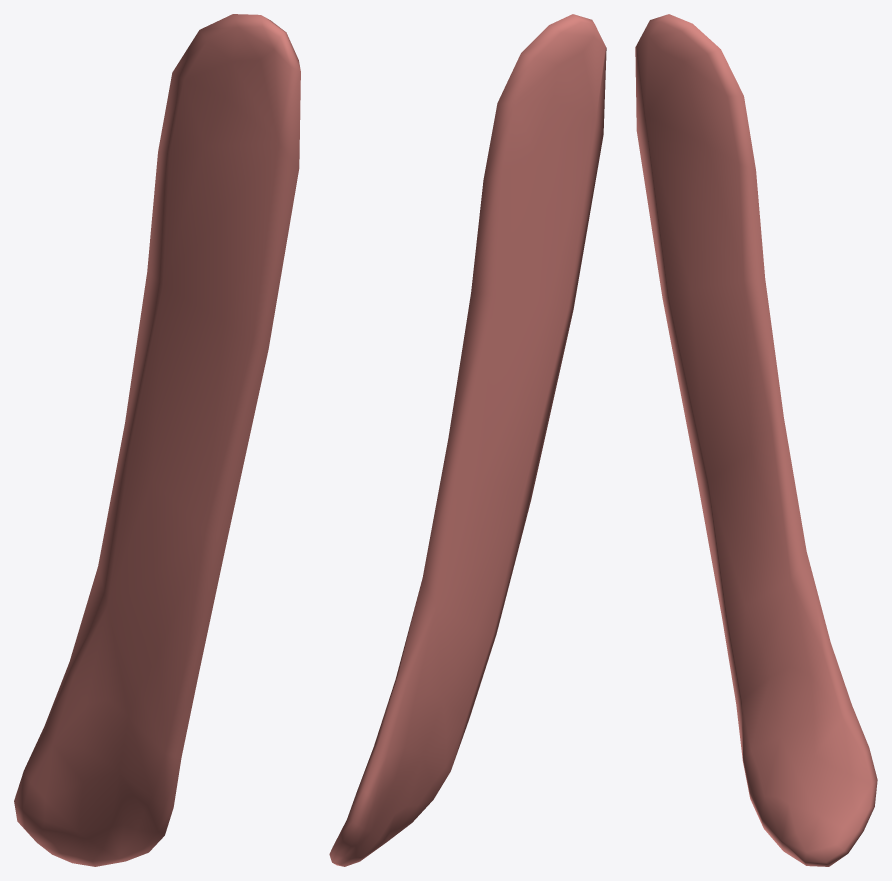
3 views of the same model, side by side, from view 1: azimuth 90°, elevation 25°; view 2: azimuth 150°, elevation 25°; view 3: azimuth 270°, elevation 25° (orthographic). The views are drawn at different scales.
Parts seen in each view (by area): view 1: ZA_0e948c102829a30a; view 2: ZA_0e948c102829a30a; view 3: ZA_0e948c102829a30a.
Boxes of the visible parts, x1,y1,x2,y2 form: ZA_0e948c102829a30a: (14, 14, 300, 866); ZA_0e948c102829a30a: (329, 14, 606, 866); ZA_0e948c102829a30a: (635, 14, 877, 866).
Bounding box in the file's own units: 0.00428 × 0.0193 × 0.00541.
